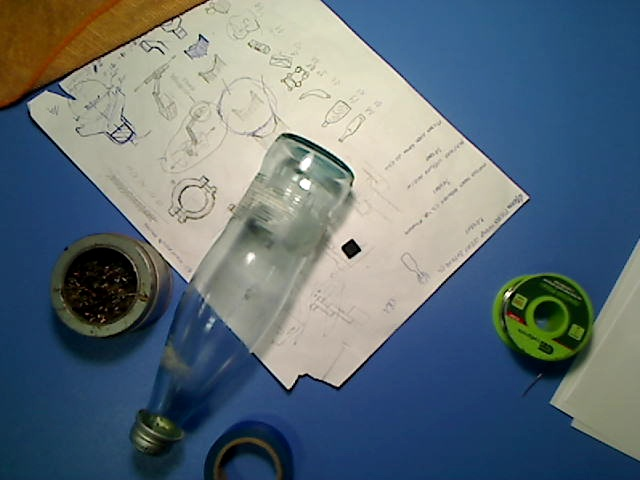bottle: (127, 130, 355, 458)
